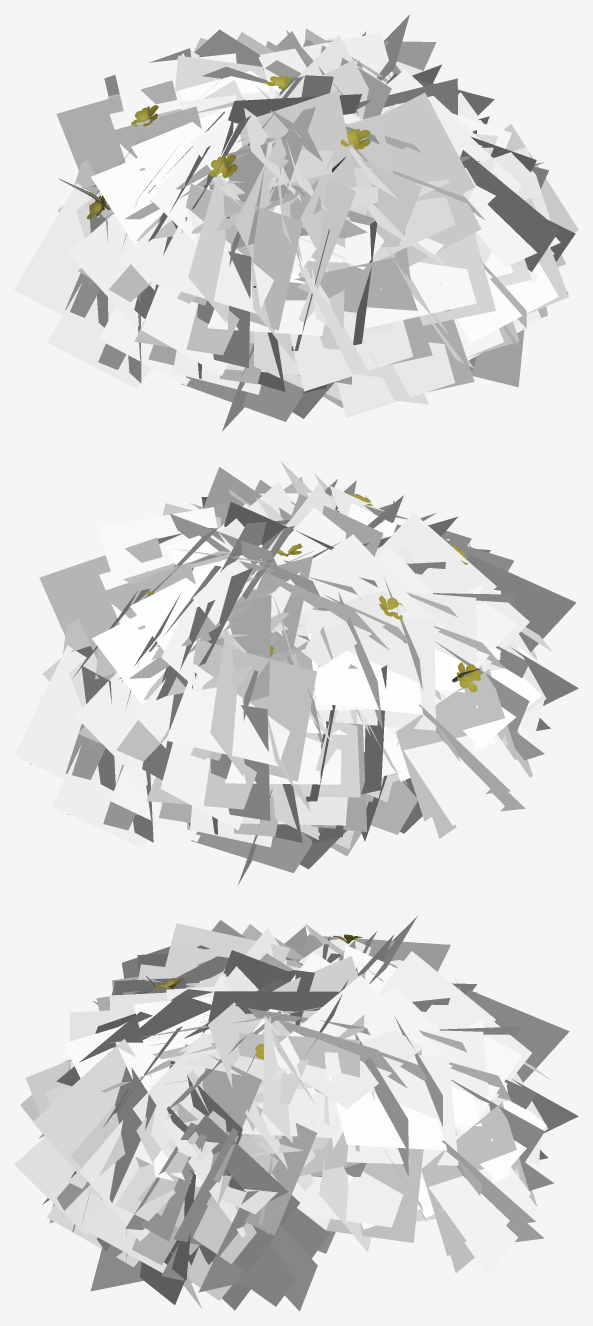
Rendered from Flower_E_01.fbx.
3 views of the same model, one above another, from view 1: azimuth 30°, elevation 25°; view 2: azimuth 150°, elevation 25°; view 3: azimuth 270°, elevation 25° (orthographic).
Visible parts, largest first — view 1: Flower_E_01; view 2: Flower_E_01; view 3: Flower_E_01.
Boxes of the visible parts, bbox=[...] form: Flower_E_01: bbox=[14, 14, 578, 431]; Flower_E_01: bbox=[14, 460, 578, 885]; Flower_E_01: bbox=[14, 916, 578, 1311].
Size of the model in its own units: 271 by 168 by 282.
3 materials, 3 textured.
